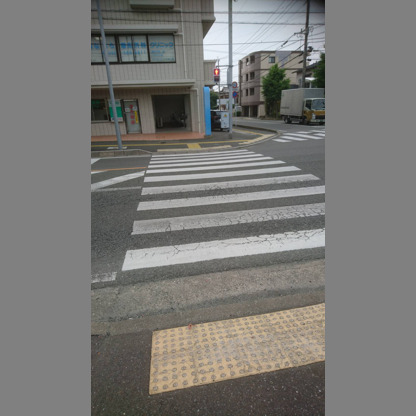brailleblock: (151, 328, 194, 388), (194, 325, 245, 373), (244, 316, 292, 364), (282, 310, 326, 360)
crosswalk: (140, 189, 324, 257), (149, 153, 265, 192)
signal: (212, 67, 221, 82)
